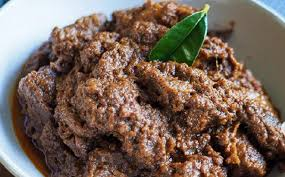rendang: (5, 4, 285, 174)
